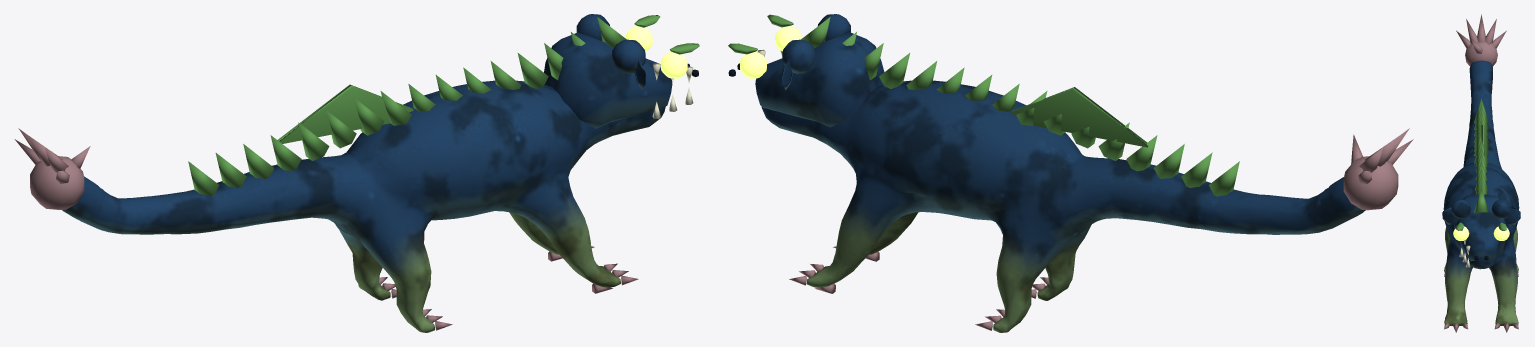
Rendered from ahuizotl.glb.
The picture shows the model from 3 angles, left to right: view 1: azimuth 30°, elevation 25°; view 2: azimuth 150°, elevation 25°; view 3: azimuth 270°, elevation 25°; orthographic projection. The views are drawn at different scales.
Visible parts, largest first — view 1: ahuizotl.001; view 2: ahuizotl.001; view 3: ahuizotl.001.
Part boxes in pixels (box(x1,y1,x2,y2)): ahuizotl.001: box(14, 14, 699, 332); ahuizotl.001: box(728, 14, 1413, 332); ahuizotl.001: box(1442, 14, 1520, 332).
Bounding box in the file's own units: 1.76 × 0.696 × 0.31.
6 materials, 1 textured.
